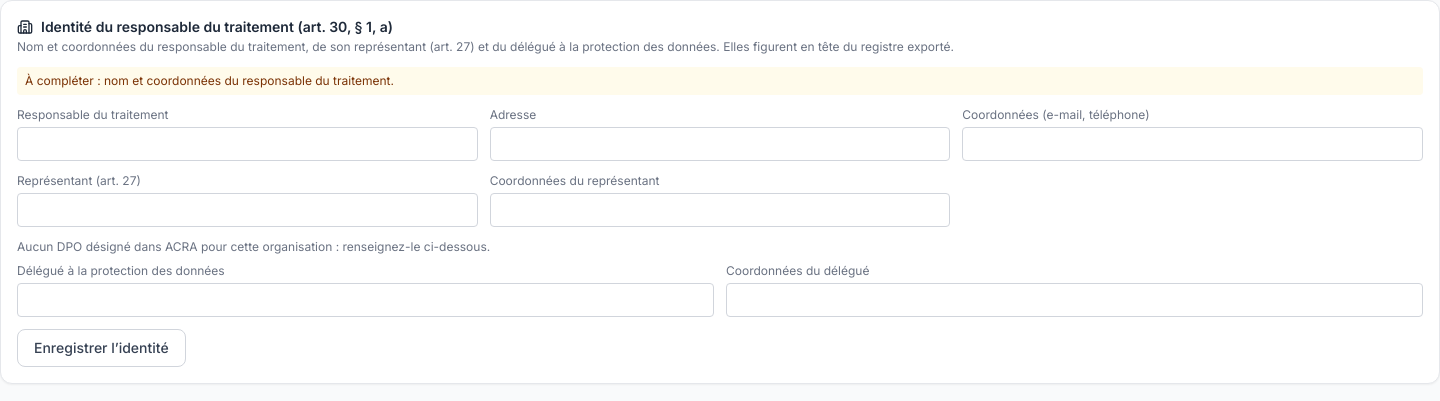
Test case: RopaIdentiteCard › aucun DPO désigné : champ libre ; enregistrement de la saisie
expect the text "Aucun DPO désigné dans ACRA" is shown: met, box [17,239,490,254]
Type "Banque Exemple SA" into the field labelled "Responsable du traitement". click: {"x": 247, "y": 144}
box: [17,127,478,161]
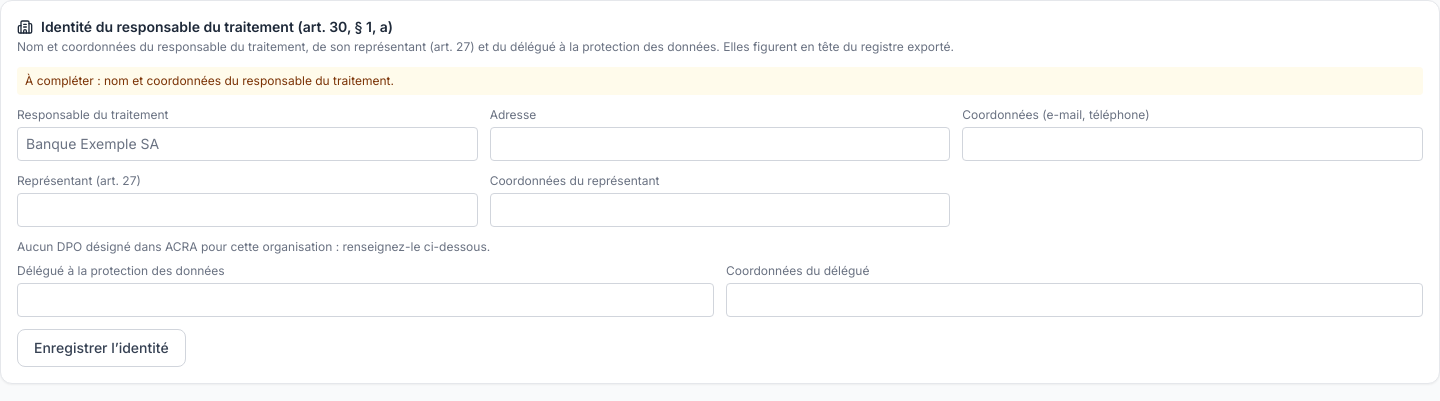
Type "contact@banque.fr" into the field labelled "Coordonnées (e-mail, téléphone)". click: {"x": 1193, "y": 144}
box: [962,127,1423,161]
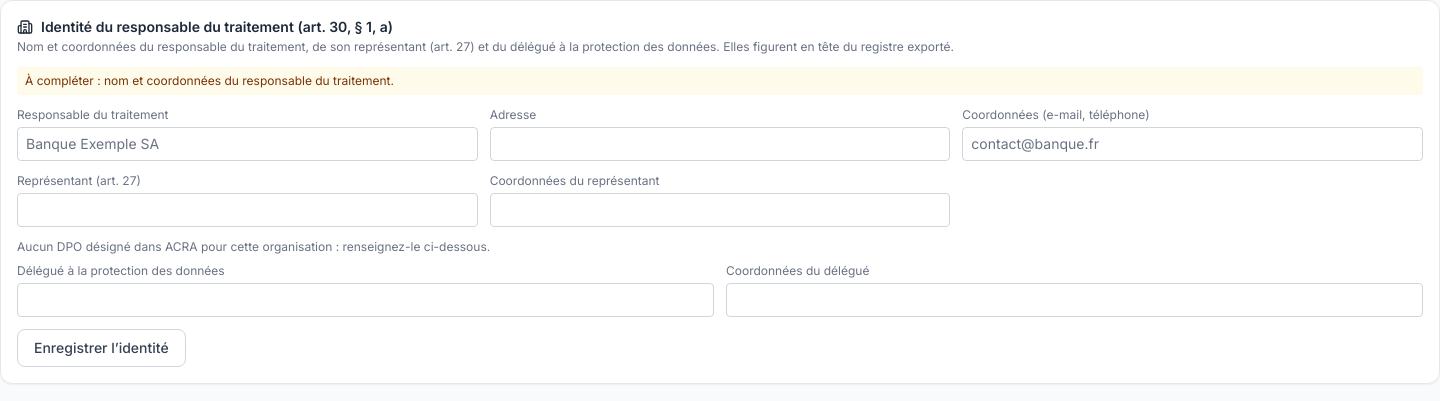
Type "Cabinet X" into the field labelled "Délégué à la protection des données". click: {"x": 366, "y": 300}
box: [17,283,714,317]
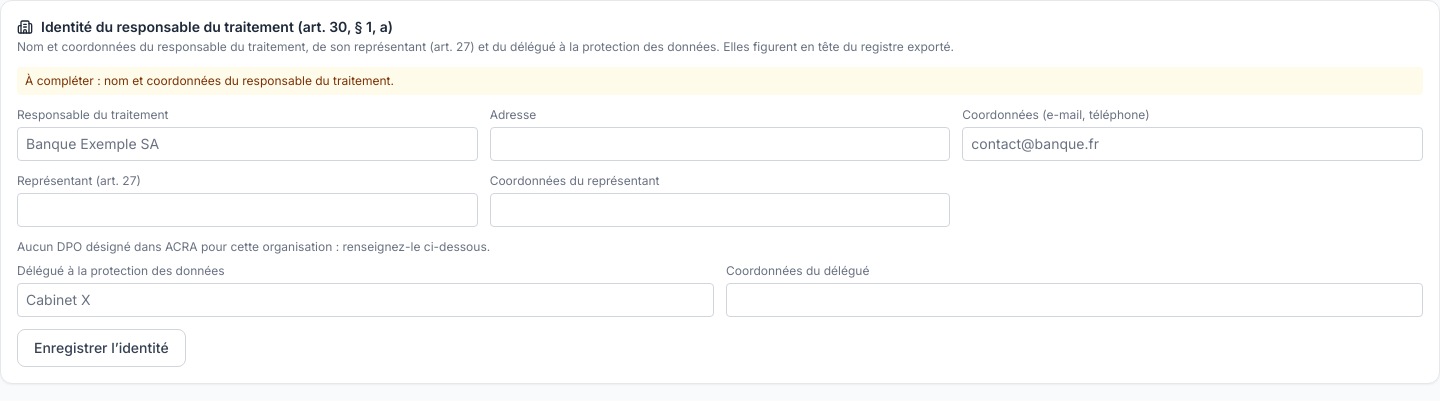
Click the button "Enregistrer l’identité". click: {"x": 101, "y": 348}
box: [17,329,186,367]
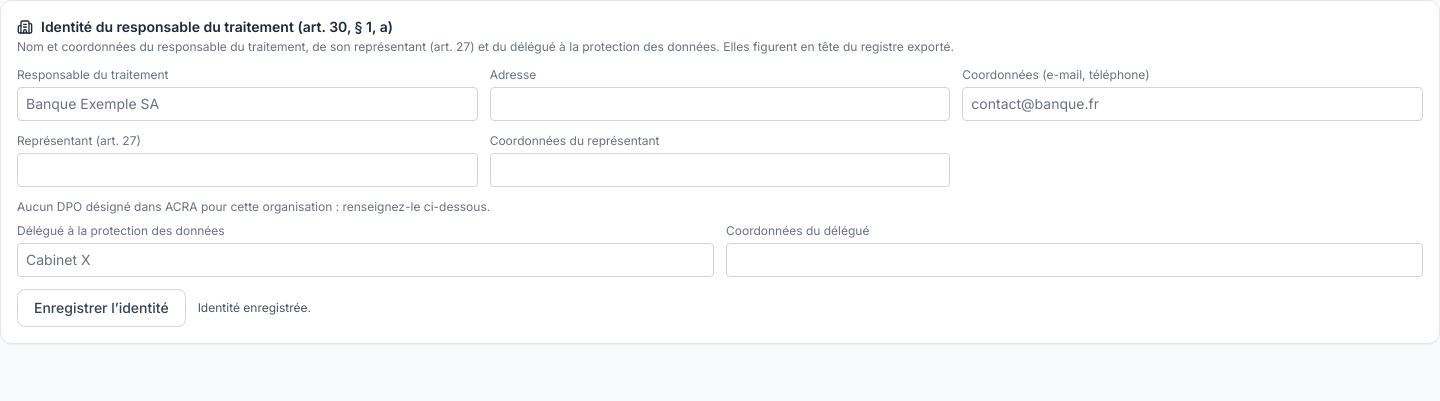
expect the text "Identité enregistrée." is shown: met, box [198,300,311,316]
